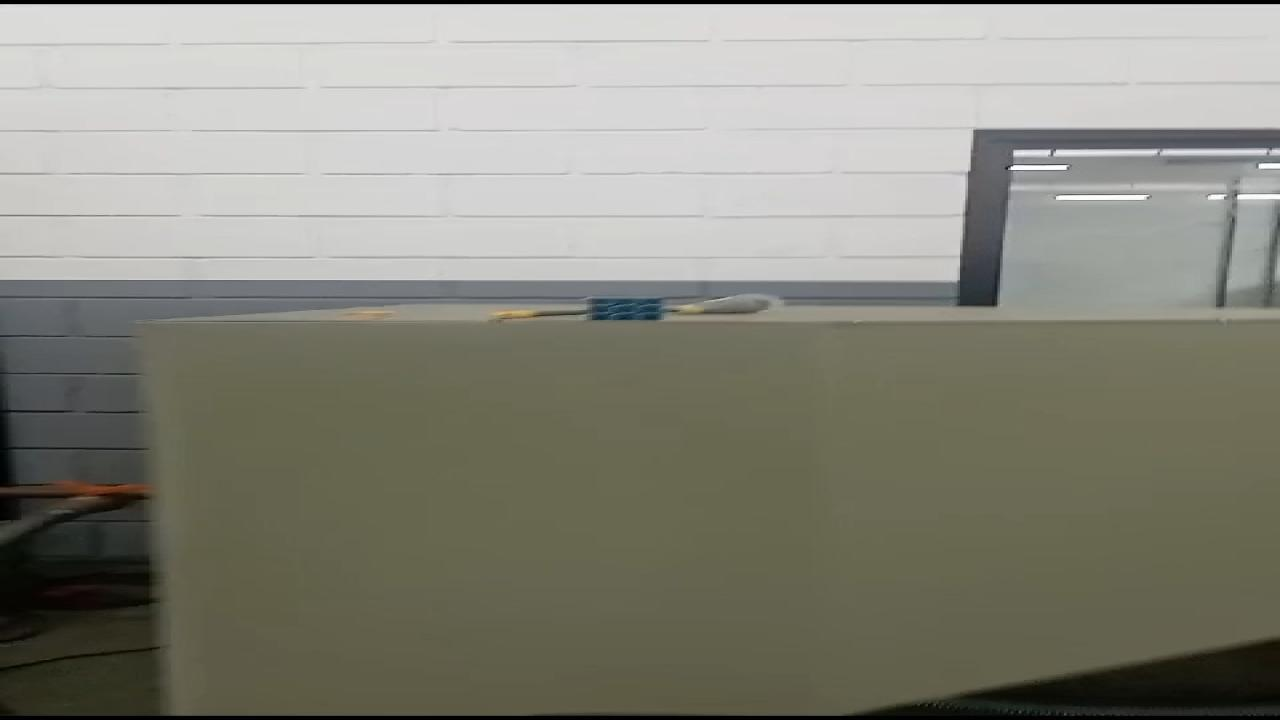Cube: (587, 297, 661, 320)
